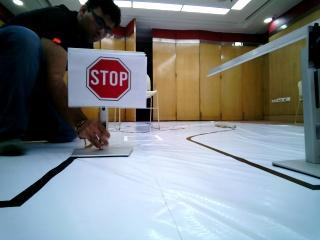stop: (79, 50, 140, 102)
